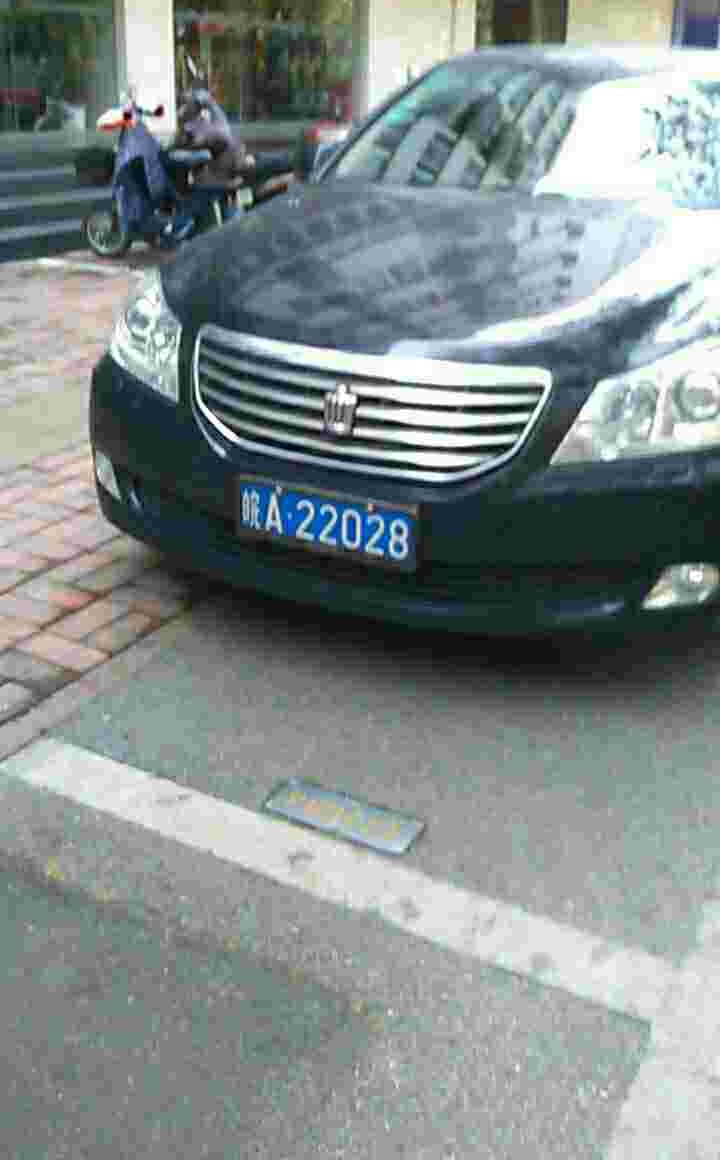license_plate: (238, 487, 416, 561)
